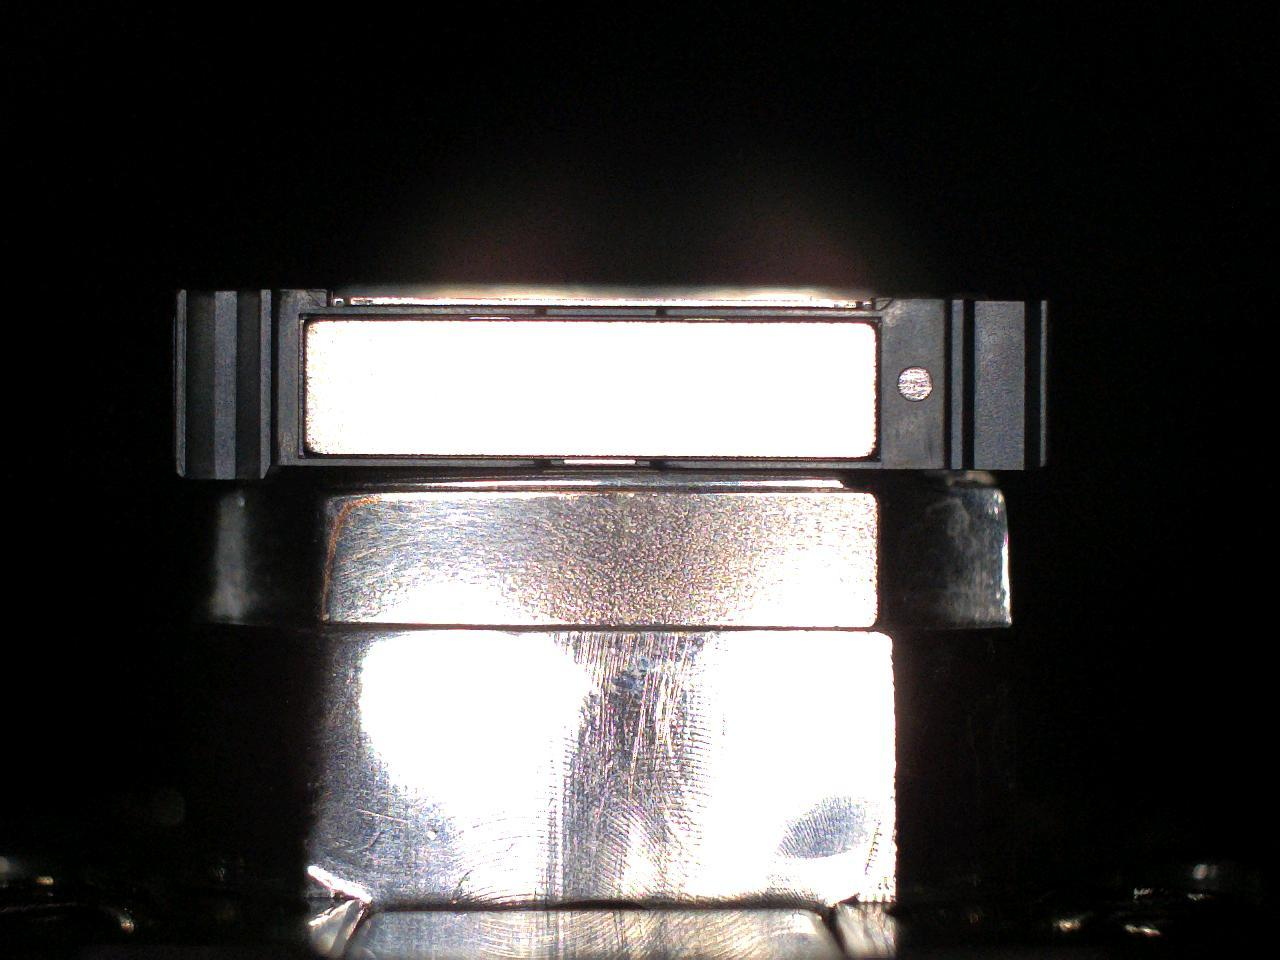frame: (176, 290, 1046, 480), (547, 307, 656, 315)
gap: (302, 315, 536, 321), (303, 454, 533, 460), (663, 316, 880, 322), (664, 456, 881, 461), (546, 315, 655, 322), (551, 455, 651, 461)
magnetic: (304, 321, 877, 459)
